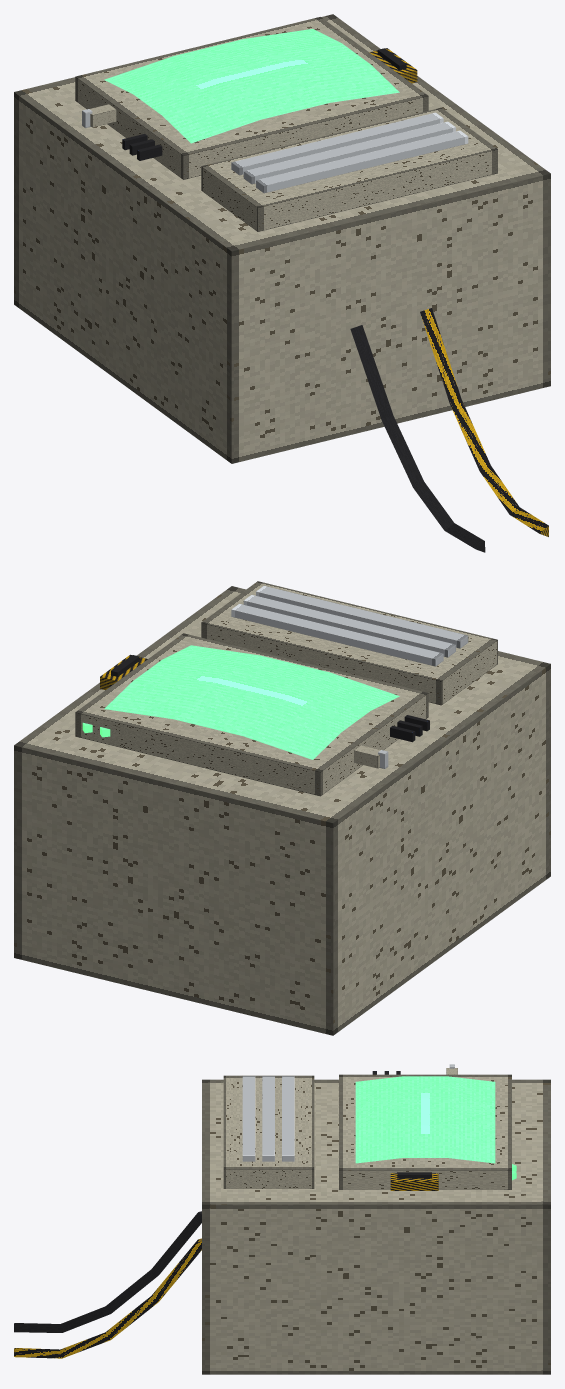
Rendered from terminal_habitation_worn.glb.
3 views of the same model, one above another, from view 1: azimuth 30°, elevation 25°; view 2: azimuth 150°, elevation 25°; view 3: azimuth 270°, elevation 25° (orthographic). The views are drawn at different scales.
Parts seen in each view (by area): view 1: terminal_habitation_worn; view 2: terminal_habitation_worn; view 3: terminal_habitation_worn.
Part boxes in pixels (<box>): terminal_habitation_worn: <box>14,14,550,552</box>; terminal_habitation_worn: <box>14,581,550,1035</box>; terminal_habitation_worn: <box>14,1064,550,1374</box>.
Bounding box in the file's own units: 0.55 × 0.4753 × 1.
Materials: 10 (10 with a texture image).
